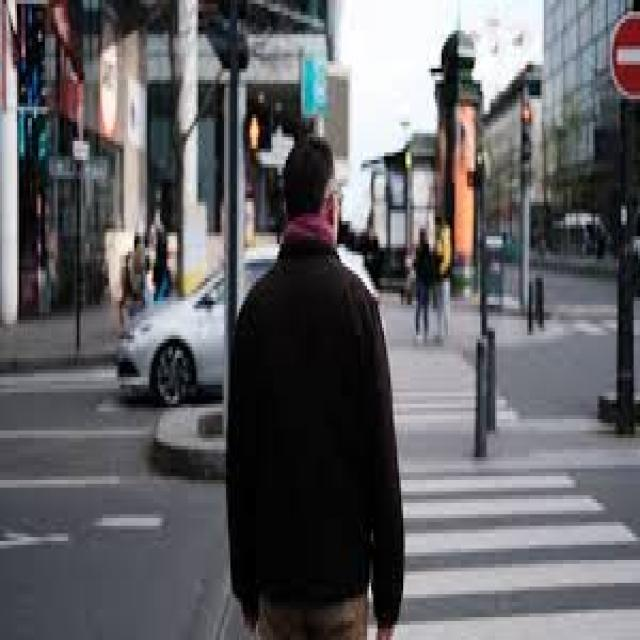Passenger Car: (115, 251, 226, 400)
Pedestrians: (230, 141, 408, 636)
